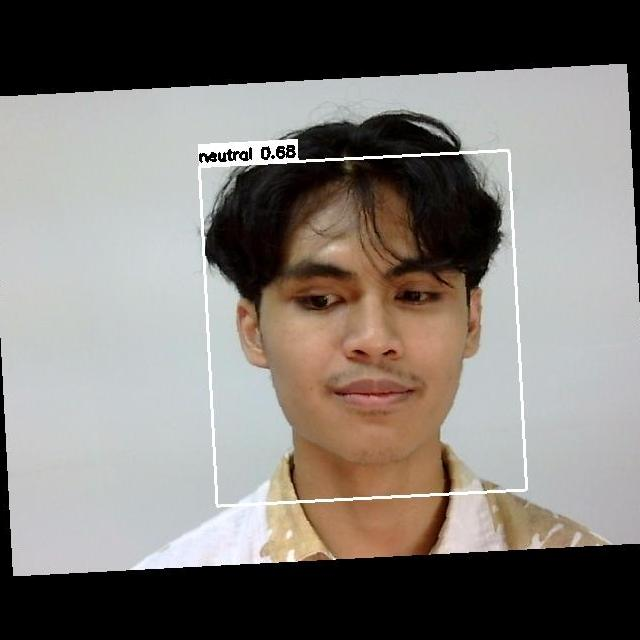Happy: (253, 228, 476, 441)
